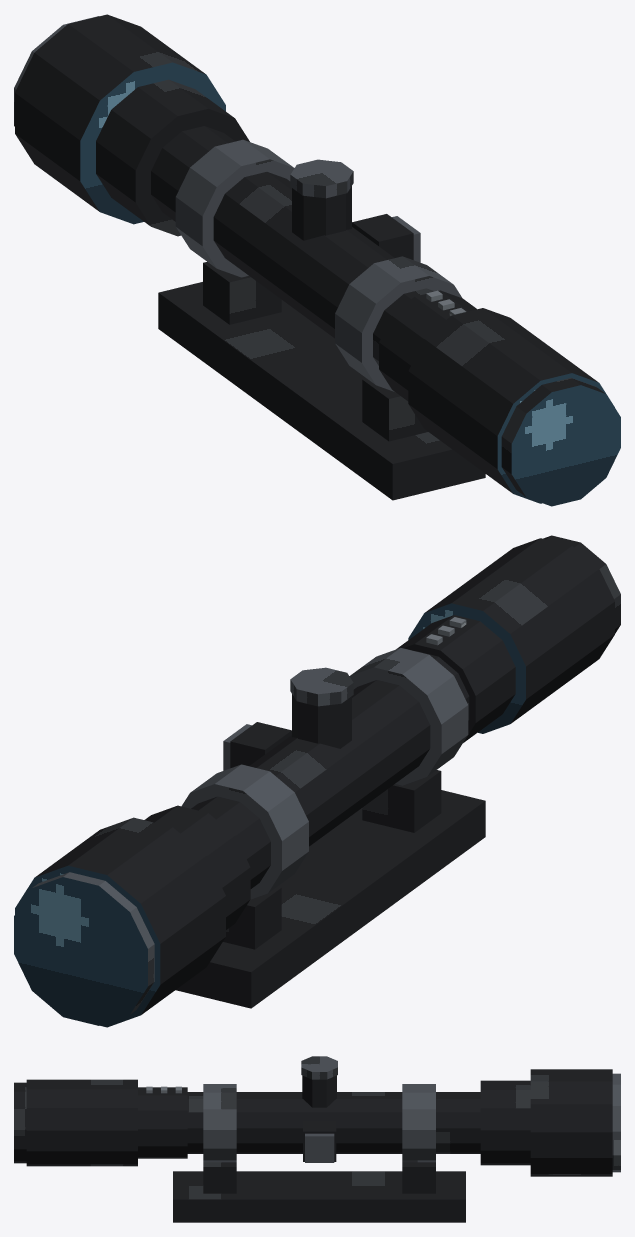
File: att_scope_8x.glb
The picture shows the model from 3 angles, top to bottom: view 1: azimuth 30°, elevation 25°; view 2: azimuth 150°, elevation 25°; view 3: azimuth 270°, elevation 25°; orthographic projection. The views are drawn at different scales.
Visible parts, largest first — view 1: Body; view 2: Body; view 3: Body.
Part boxes in pixels (left/top/right/bottom): Body: left=14, top=14, right=620, bottom=506; Body: left=14, top=535, right=620, bottom=1027; Body: left=14, top=1056, right=620, bottom=1222.
Bounding box in the file's own units: 0.0551 × 0.076 × 0.29.
5 materials, 5 textured.
